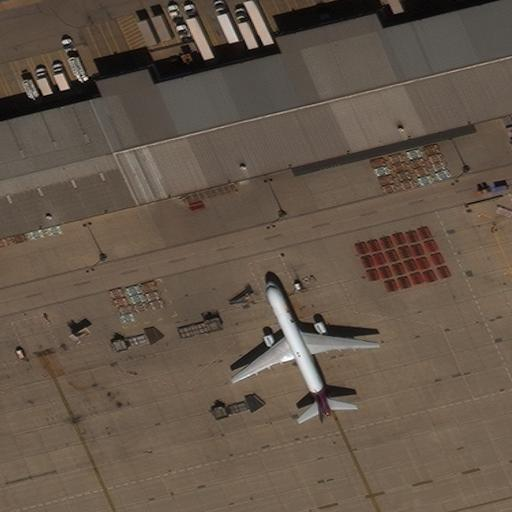Large Civil Transport: (229, 281, 378, 417)
